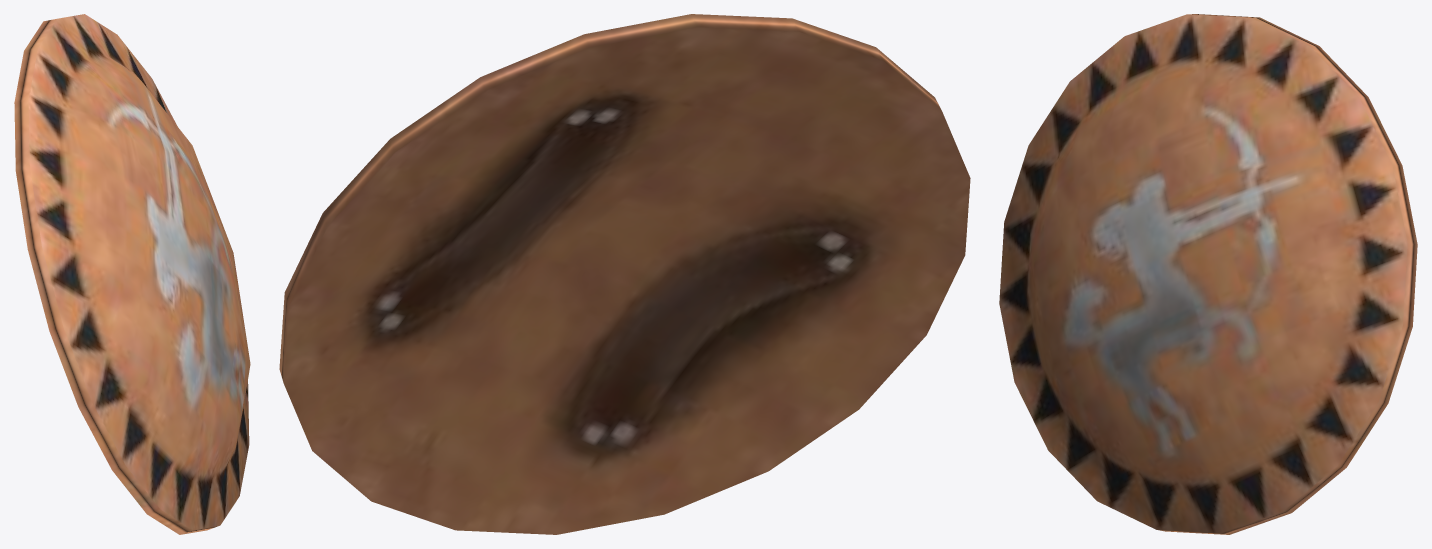
Rendered from rider-shield-slice-bronzeshields.glb.
3 views of the same model, side by side, from view 1: azimuth 30°, elevation 25°; view 2: azimuth 150°, elevation 25°; view 3: azimuth 270°, elevation 25° (orthographic). The views are drawn at different scales.
Size of the model in its own units: 0.3521 by 0.4503 by 0.3839.
Materials: 1 (1 with a texture image).
